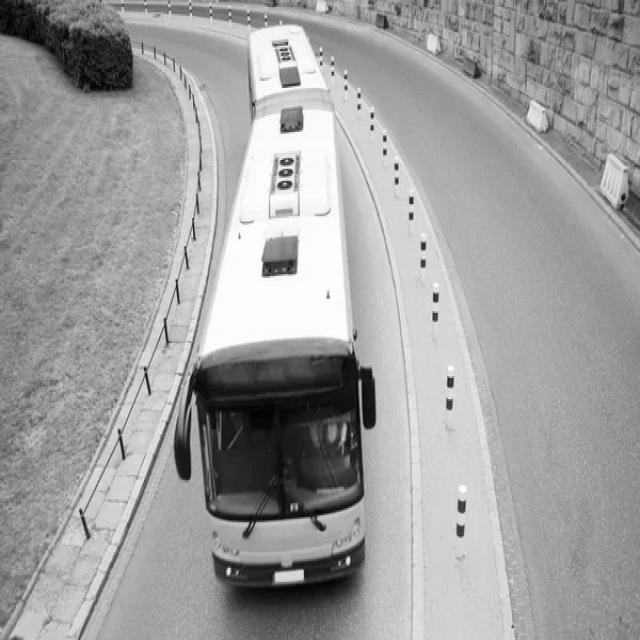Bus: (175, 25, 376, 588)
